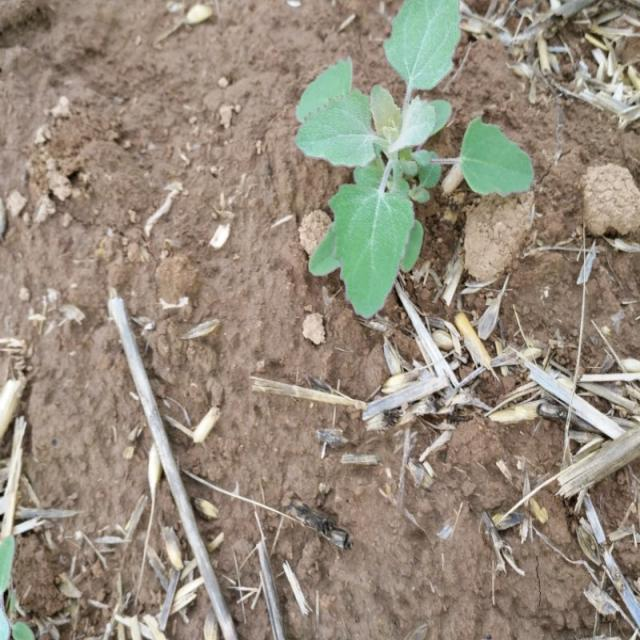goosefoots: (272, 0, 514, 327)
